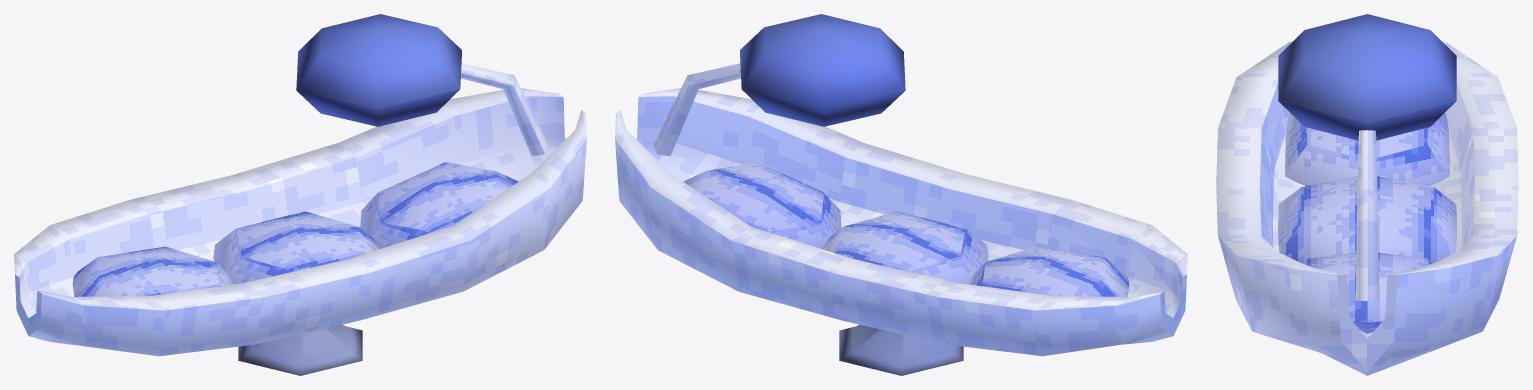
The model's file is furn.pod__chaise_visor.glb.
3 renders of one model, left to right at view 1: azimuth 30°, elevation 25°; view 2: azimuth 150°, elevation 25°; view 3: azimuth 270°, elevation 25°, orthographic. The views are drawn at different scales.
Parts seen in each view (by area): view 1: kit_pod_shell, kit_pod_cushion, kit_pod_extra, kit_pod_feet; view 2: kit_pod_shell, kit_pod_cushion, kit_pod_extra, kit_pod_feet; view 3: kit_pod_shell, kit_pod_cushion, kit_pod_extra.
Part boxes in pixels (x1,y1,x2,y2): kit_pod_shell: (14,88,586,356); kit_pod_cushion: (72,162,518,296); kit_pod_extra: (296,14,547,156); kit_pod_feet: (238,324,362,375); kit_pod_shell: (615,88,1187,356); kit_pod_cushion: (683,162,1129,296); kit_pod_extra: (654,14,905,156); kit_pod_feet: (839,324,963,375); kit_pod_shell: (1216,41,1518,375); kit_pod_cushion: (1277,113,1457,333); kit_pod_extra: (1278,14,1456,300).
Bounding box in the file's own units: 2.1 × 1.09 × 0.9.
Materials: 4 (2 with a texture image).
